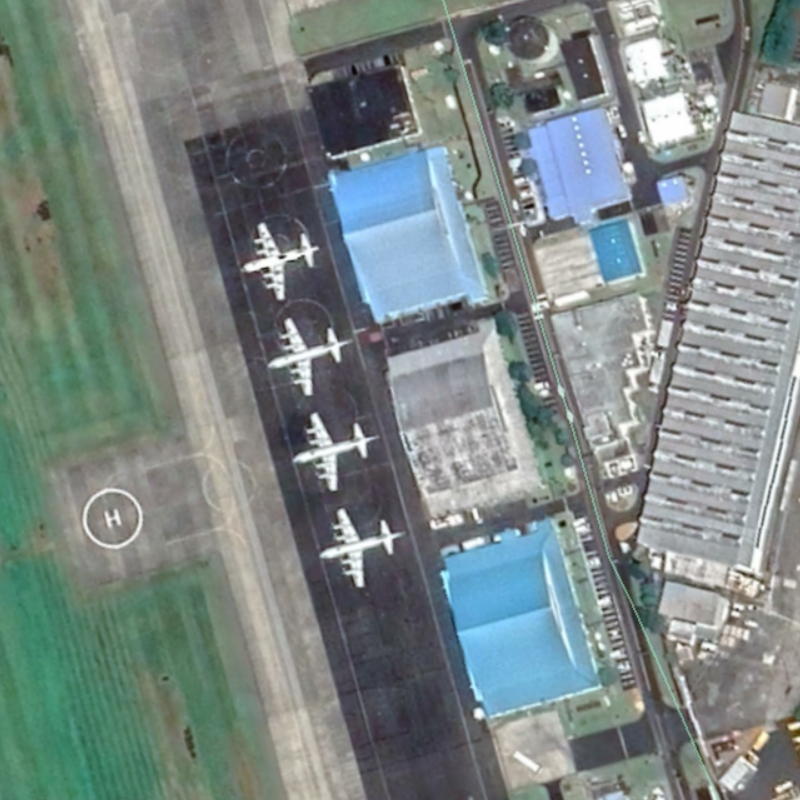A9: (285, 405, 383, 498), (262, 310, 361, 402), (310, 503, 405, 598), (236, 216, 328, 308)
